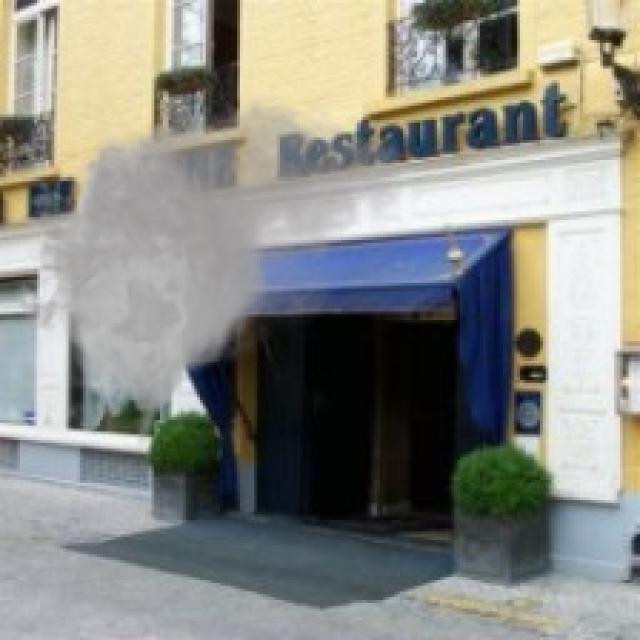Smoke: (2, 83, 412, 460)
